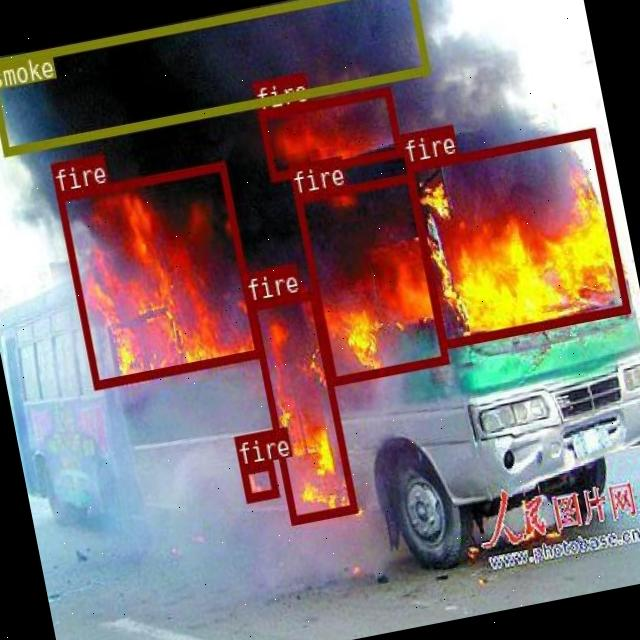fire: (405, 128, 630, 348), (55, 160, 262, 388), (294, 173, 448, 384), (247, 288, 356, 522), (257, 86, 402, 180), (240, 461, 278, 502)
smoke: (0, 0, 428, 155)
